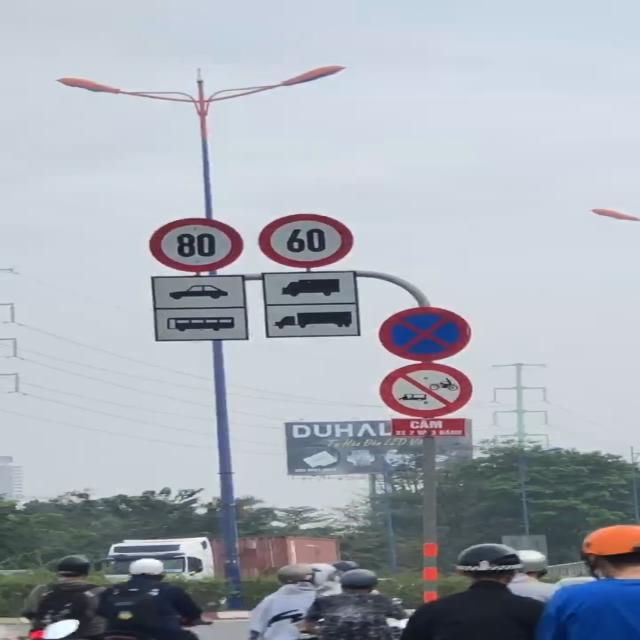Bien bao cam dung xe va do xe: (376, 303, 477, 362)
Bien bao toc do toi da cho phep: (257, 212, 357, 270), (147, 215, 246, 272)
